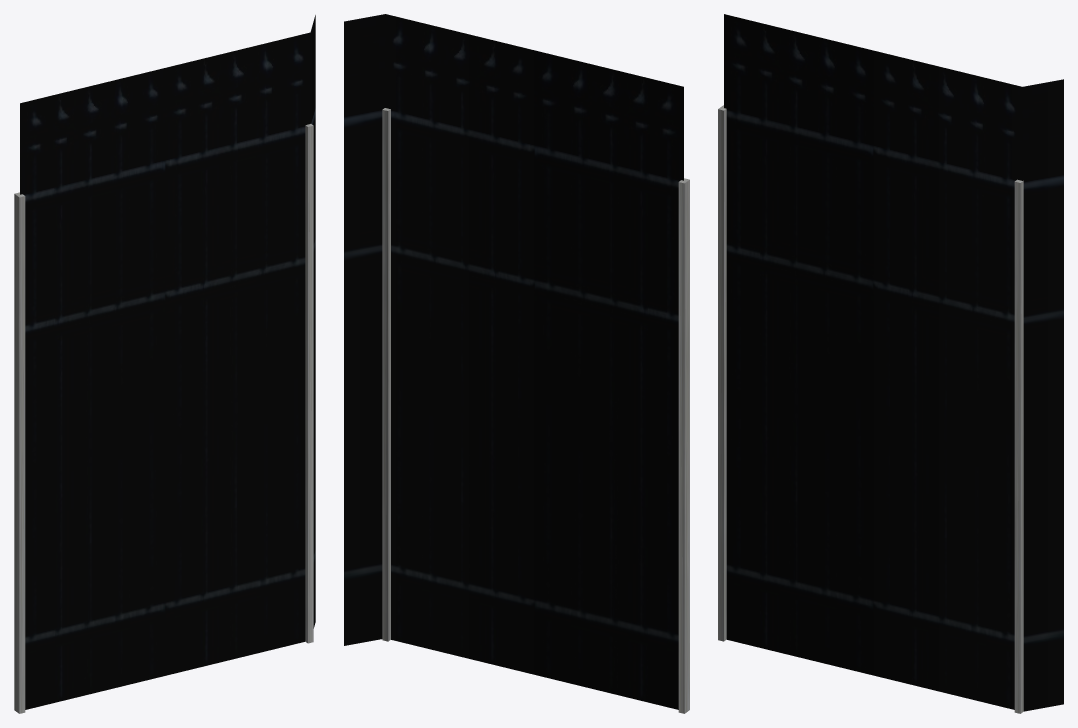
File: english_wall_gate_r.fbx
3 views of the same model, side by side, from view 1: azimuth 30°, elevation 25°; view 2: azimuth 150°, elevation 25°; view 3: azimuth 330°, elevation 25° (orthographic). The views are drawn at different scales.
Visible parts, largest first — view 1: pPlane1, pCube3, side1:pCube3; view 2: pPlane2, pPlane1, pCube3, side1:pCube3; view 3: pPlane1, side1:pCube3, pCube3.
Boxes of the visible parts, x1,y1,x2,y2 form: pPlane1: (20,15,315,709); pCube3: (14,192,25,713); side1:pCube3: (305,124,313,643); pPlane2: (344,14,683,709); pPlane1: (344,16,678,709); pCube3: (678,178,689,713); side1:pCube3: (382,108,390,641); pPlane1: (724,14,1063,711); side1:pCube3: (1014,179,1023,713); pCube3: (718,105,726,641).
Bounding box in the file's own units: 1634 × 3000 × 180.
2 materials, 2 textured.
